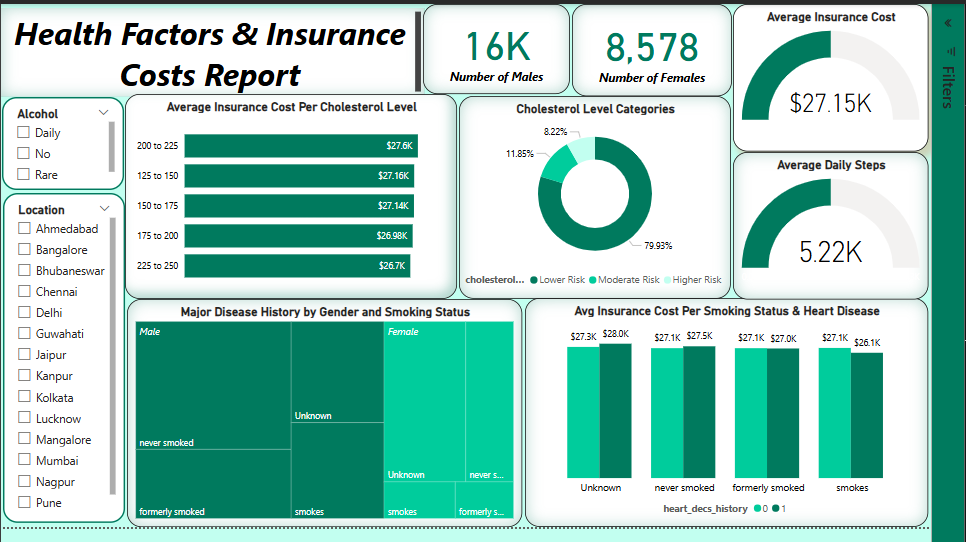

This screenshot's page, from the dashboard's own definition file:
{"tool":"powerbi","page":{"name":"HFIC","canvas":[1280,720],"ordinal":1},"visuals":[{"type":"textbox","box":[0,5,582.9,122],"z":1000},{"type":"clusteredBarChart","title":"Average Insurance Cost Per Cholesterol Level","fields":{"Y":["Avg(Data.insurance_cost)"],"Category":["Data.cholesterol_level"]},"box":[171.3,124.3,456.9,282.2],"z":2000},{"type":"clusteredColumnChart","title":"Avg Insurance Cost Per Smoking Status & Heart Disease","fields":{"Category":["Data.smoking_status"],"Y":["Avg(Data.insurance_cost)"],"Series":["Data.heart_decs_history"]},"box":[721.2,404.6,554.7,315.2],"z":3000},{"type":"gauge","title":"Average Insurance Cost","fields":{"Y":["Avg(Data.insurance_cost)"]},"box":[1007.1,0.5,268.8,203.3],"z":4000},{"type":"card","fields":{"Values":["Data.Number of Females"]},"box":[785.9,0,220.2,126.6],"z":5000},{"type":"card","fields":{"Values":["Data.Number of Males"]},"box":[580.8,0,202.3,123.9],"z":6000},{"type":"treemap","title":"Major Disease History by Gender and Smoking Status","fields":{"Group":["Data.Gender"],"Details":["Data.smoking_status"],"Values":["CountNonNull(Data.other_major_decs_history)"]},"box":[173,405.9,544.3,314.1],"z":7000},{"type":"slicer","fields":{"Values":["Data.Alcohol"]},"box":[1.4,128,167.9,128],"z":8000},{"type":"slicer","fields":{"Values":["Data.Location"]},"box":[2.8,260.1,167.9,454.2],"z":10000},{"type":"donutChart","title":"Cholesterol Level Categories","fields":{"Category":["Data.cholesterol_level_category"],"Y":["CountNonNull(Data.cholesterol_level_category)"]},"box":[630.4,126.6,374.4,279.4],"z":11000},{"type":"gauge","title":"Average Daily Steps","fields":{"Y":["Avg(Data.daily_avg_steps)"]},"box":[1007.1,203.7,268.8,203.3],"z":12000}]}

Visuals, with their boxes in screenshot pixels (x1, y1, x2, y2), scaled from the page's 1280x720 canvas onto the 966x542 screenshot:
textbox: bbox=(0, 4, 440, 96)
"Average Insurance Cost Per Cholesterol Level" clusteredBarChart: bbox=(129, 94, 474, 306)
"Avg Insurance Cost Per Smoking Status & Heart Disease" clusteredColumnChart: bbox=(544, 305, 963, 541)
"Average Insurance Cost" gauge: bbox=(760, 0, 963, 153)
card - Data.Number of Females: bbox=(593, 0, 759, 95)
card - Data.Number of Males: bbox=(438, 0, 591, 93)
"Major Disease History by Gender and Smoking Status" treemap: bbox=(131, 306, 541, 541)
slicer - Data.Alcohol: bbox=(1, 96, 128, 193)
slicer - Data.Location: bbox=(2, 196, 129, 538)
"Cholesterol Level Categories" donutChart: bbox=(476, 95, 758, 306)
"Average Daily Steps" gauge: bbox=(760, 153, 963, 306)
